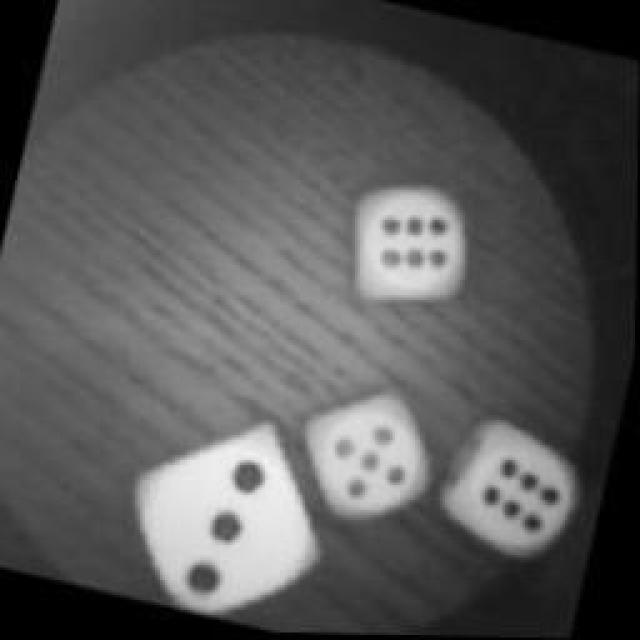dice_3: (109, 397, 349, 635)
dice_5: (294, 378, 438, 534)
dice_6: (330, 160, 482, 322), (441, 420, 594, 568)
